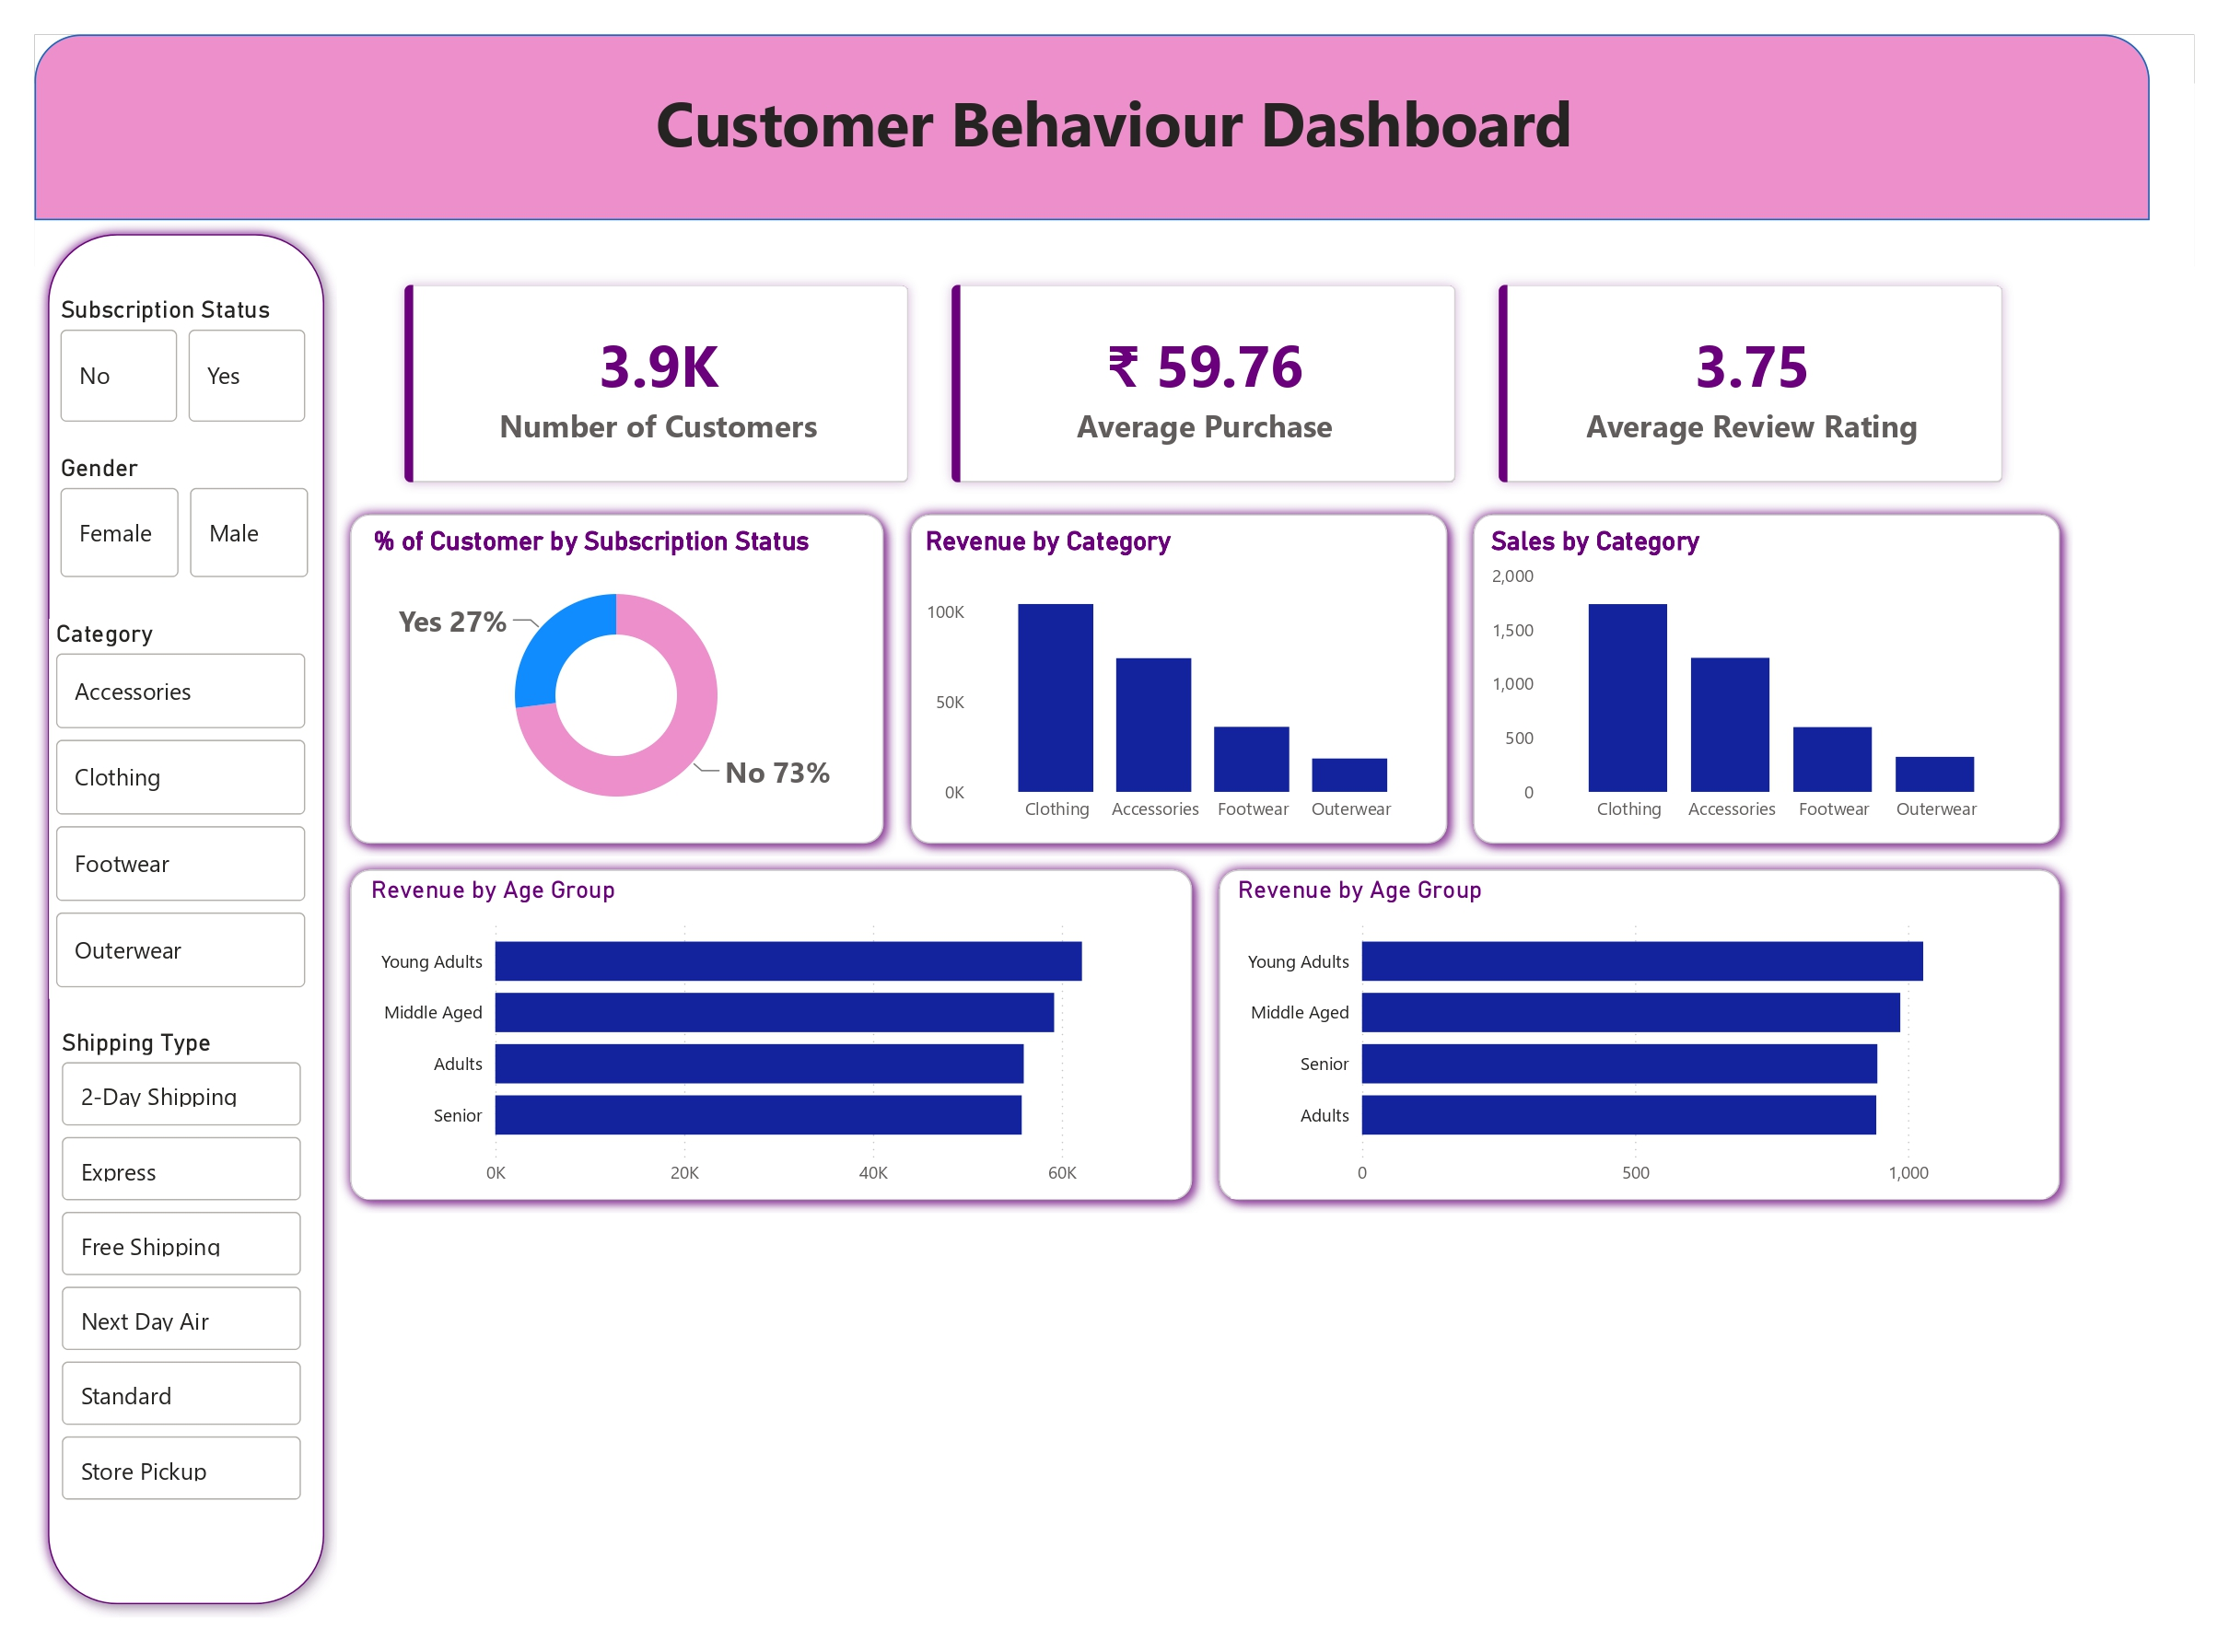

Layout of this report page (visuals, bound fields, positions):
{"tool":"powerbi","page":{"name":"Page 1","canvas":[1500,1100],"ordinal":0},"visuals":[{"type":"cardVisual","fields":{"Data":["customer_behaviour customer_shopping.Number of Customers","customer_behaviour customer_shopping.Average Purchase","customer_behaviour customer_shopping.Average Review Rating"]},"box":[228.6,145.7,1167.1,192.9],"z":0},{"type":"shape","box":[0,0,1468.6,128.6],"z":1000},{"type":"textbox","box":[0,27.1,1500,84.3],"z":2000},{"type":"shape","box":[210,324.3,388.6,247.1],"z":3000},{"type":"donutChart","title":"% of Customer by Subscription Status","fields":{"Category":["customer_behaviour customer_shopping.subscription_status"],"Y":["customer_behaviour customer_shopping.Number of Customers"]},"box":[231.4,341.4,345.7,214.3],"z":4000},{"type":"shape","box":[598.6,324.3,391.4,247.1],"z":5000},{"type":"shape","box":[990,324.3,425.7,247.1],"z":6000},{"type":"clusteredColumnChart","title":"Revenue by Category","fields":{"Y":["Sum(customer_behaviour customer_shopping.purchase_amount)"],"Category":["customer_behaviour customer_shopping.category"]},"box":[614.3,341.4,360,214.3],"z":7000},{"type":"clusteredColumnChart","title":"Sales by Category","fields":{"Category":["customer_behaviour customer_shopping.category"],"Y":["CountNonNull(customer_behaviour customer_shopping.customer_id)"]},"box":[1007.1,341.4,375.7,214.3],"z":8000},{"type":"shape","box":[0,128.6,210,971.4],"z":9000},{"type":"advancedSlicerVisual","title":"Subscription Status","fields":{"Values":["customer_behaviour customer_shopping.subscription_status"]},"box":[12.9,181.4,180,94.3],"z":10000},{"type":"advancedSlicerVisual","title":"Gender","fields":{"Values":["customer_behaviour customer_shopping.gender"]},"box":[12.9,291.4,182.9,92.9],"z":11000},{"type":"advancedSlicerVisual","title":"Category","fields":{"Values":["customer_behaviour customer_shopping.category"]},"box":[10,405.7,182.9,264.3],"z":12000},{"type":"advancedSlicerVisual","title":"Shipping Type","fields":{"Values":["customer_behaviour customer_shopping.shipping_type"]},"box":[14.3,690,175.7,340],"z":13000},{"type":"shape","box":[210,571.4,602.9,247.1],"z":14000},{"type":"shape","box":[812.9,571.4,602.9,247.1],"z":15000},{"type":"clusteredBarChart","title":"Revenue by Age Group","fields":{"Y":["Sum(customer_behaviour customer_shopping.purchase_amount)"],"Category":["customer_behaviour customer_shopping.age_group"]},"box":[228.6,584.3,565.7,224.3],"z":16000},{"type":"clusteredBarChart","title":"Revenue by Age Group","fields":{"Category":["customer_behaviour customer_shopping.age_group"],"Y":["CountNonNull(customer_behaviour customer_shopping.customer_id)"]},"box":[831.4,584.3,565.7,224.3],"z":16001}]}

Visuals, with their boxes in screenshot pixels (x1, y1, x2, y2):
cardVisual - customer_behaviour customer_shopping.Number of Customers x customer_behaviour customer_shopping.Average Purchase: Rect(358, 258, 2008, 530)
shape: Rect(35, 52, 2111, 234)
textbox: Rect(35, 90, 2155, 210)
shape: Rect(332, 510, 881, 860)
"% of Customer by Subscription Status" donutChart: Rect(362, 535, 850, 838)
shape: Rect(881, 510, 1434, 860)
shape: Rect(1434, 510, 2036, 860)
"Revenue by Category" clusteredColumnChart: Rect(904, 535, 1412, 838)
"Sales by Category" clusteredColumnChart: Rect(1458, 535, 1990, 838)
shape: Rect(35, 234, 332, 1607)
"Subscription Status" advancedSlicerVisual: Rect(53, 308, 308, 442)
"Gender" advancedSlicerVisual: Rect(53, 464, 311, 595)
"Category" advancedSlicerVisual: Rect(49, 625, 308, 999)
"Shipping Type" advancedSlicerVisual: Rect(55, 1028, 303, 1507)
shape: Rect(332, 860, 1184, 1209)
shape: Rect(1184, 860, 2036, 1209)
"Revenue by Age Group" clusteredBarChart: Rect(358, 878, 1158, 1195)
"Revenue by Age Group" clusteredBarChart: Rect(1210, 878, 2010, 1195)
